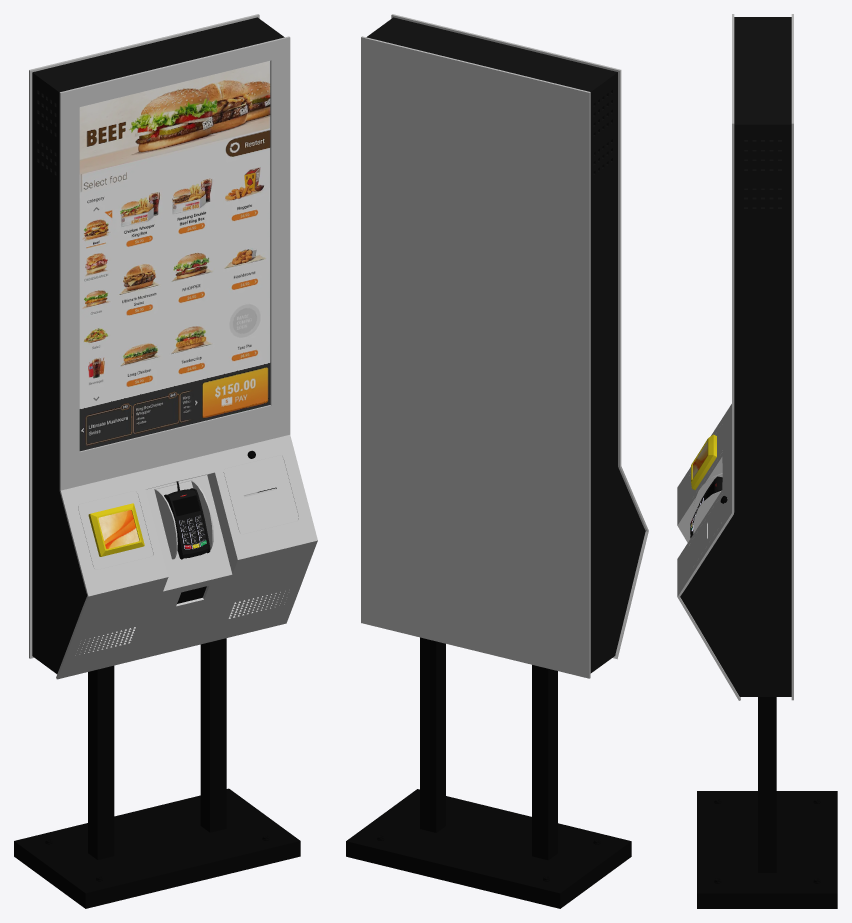
Rendered from kiosk.glb.
3 renders of one model, left to right at view 1: azimuth 30°, elevation 25°; view 2: azimuth 150°, elevation 25°; view 3: azimuth 270°, elevation 25°, orthographic. The views are drawn at different scales.
Parts seen in each view (by area): view 1: Self servise kiosk_02, Self servise kiosk_01, Self servise kiosk_47, Self servise kiosk_04, Self servise kiosk_05, Self servise kiosk_44, Self servise kiosk_43, Self servise kiosk_49, Self servise kiosk_48; view 2: Self servise kiosk_02, Self servise kiosk_47, Self servise kiosk_04, Self servise kiosk_05; view 3: Self servise kiosk_47, Self servise kiosk_04, Self servise kiosk_02, Self servise kiosk_05, Self servise kiosk_44, Self servise kiosk_48.
Part boxes in pixels (x1,y1,x2,y2): Self servise kiosk_02: (29, 14, 317, 679); Self servise kiosk_01: (79, 61, 270, 451); Self servise kiosk_47: (32, 17, 284, 673); Self servise kiosk_04: (14, 788, 300, 908); Self servise kiosk_05: (88, 638, 226, 859); Self servise kiosk_44: (154, 480, 213, 559); Self servise kiosk_43: (164, 488, 210, 559); Self servise kiosk_49: (98, 510, 139, 548); Self servise kiosk_48: (88, 503, 144, 556); Self servise kiosk_02: (361, 14, 648, 678); Self servise kiosk_47: (366, 17, 645, 673); Self servise kiosk_04: (346, 789, 631, 908); Self servise kiosk_05: (420, 637, 557, 860); Self servise kiosk_47: (680, 17, 791, 696); Self servise kiosk_04: (697, 791, 837, 908); Self servise kiosk_02: (677, 14, 793, 700); Self servise kiosk_05: (758, 697, 776, 872); Self servise kiosk_44: (693, 473, 722, 533); Self servise kiosk_48: (691, 434, 716, 489).
Size of the model in its own units: 0.555 by 1.86 by 0.3422.
17 materials, 2 textured.
